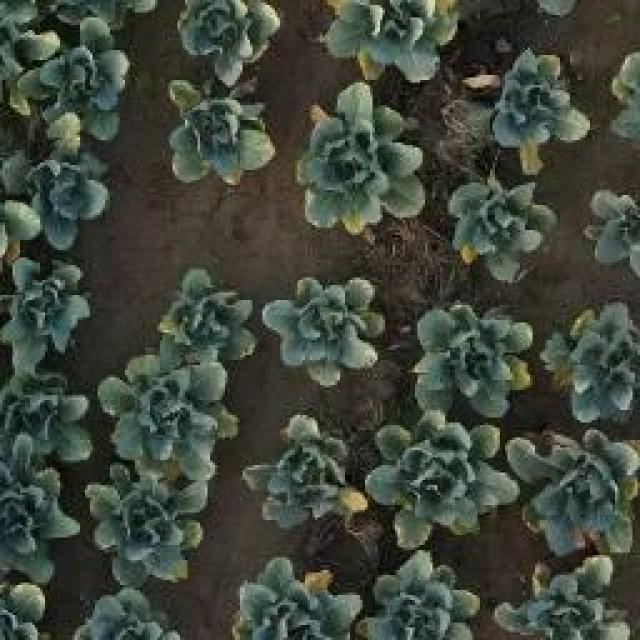cabbage: (364, 411, 518, 542), (294, 101, 426, 226), (508, 426, 640, 548), (408, 298, 536, 423), (242, 410, 373, 529), (84, 475, 217, 592), (16, 17, 134, 138), (0, 145, 119, 255), (100, 355, 210, 473), (494, 549, 632, 640), (492, 50, 601, 162), (270, 278, 385, 382), (321, 0, 460, 83), (446, 177, 555, 281), (542, 300, 640, 415), (0, 250, 95, 358), (232, 555, 352, 640), (362, 555, 482, 640), (169, 89, 275, 184), (0, 466, 78, 586), (0, 367, 92, 467), (178, 0, 284, 78), (170, 272, 254, 357), (580, 187, 640, 278)
